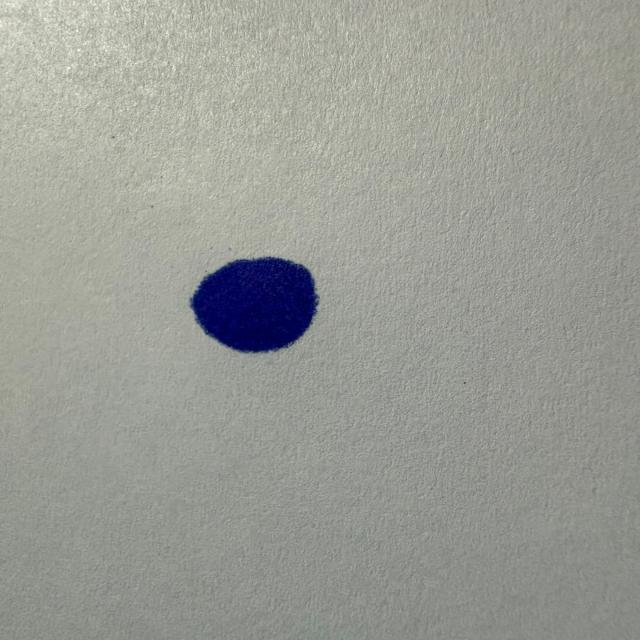Circle: (182, 251, 324, 357)
